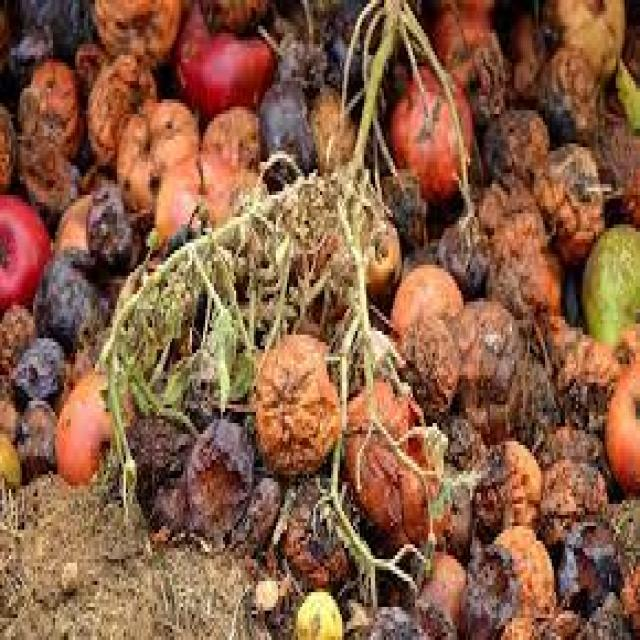Wet: (2, 0, 640, 640), (57, 11, 570, 612)
